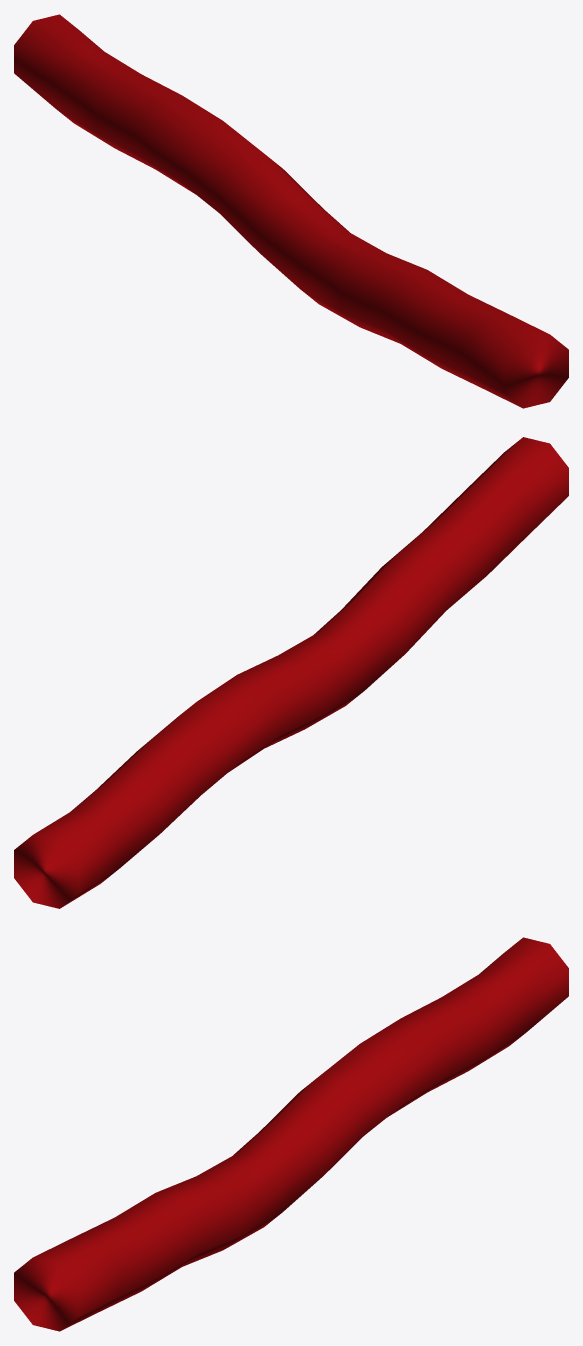
Rendered from cable rojo.fbx.
3 views of the same model, one above another, from view 1: azimuth 30°, elevation 25°; view 2: azimuth 150°, elevation 25°; view 3: azimuth 330°, elevation 25° (orthographic).
Parts seen in each view (by area): view 1: Cylinder; view 2: Cylinder; view 3: Cylinder.
Boxes of the visible parts, x1,y1,x2,y2 form: Cylinder: [14, 14, 568, 408]; Cylinder: [14, 437, 568, 908]; Cylinder: [14, 937, 568, 1331].
Bounding box in the file's own units: 25.62 × 42.81 × 337.
